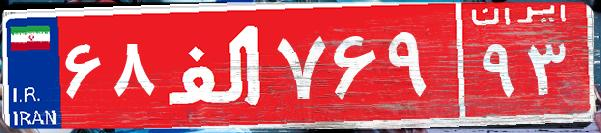3: (525, 38, 570, 115)
6: (330, 28, 385, 110), (57, 26, 110, 107)
7: (273, 28, 330, 110)
8: (110, 28, 158, 105)
9: (385, 28, 445, 110), (475, 38, 525, 113)
الف: (158, 15, 273, 115)
